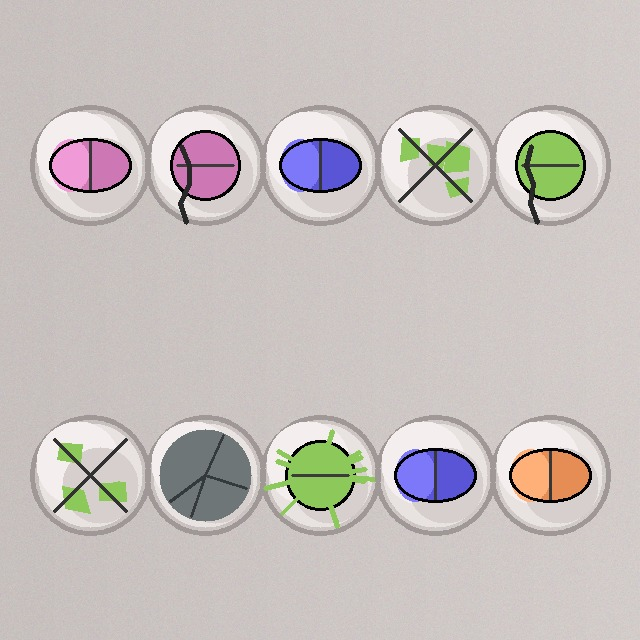broken: (373, 103, 497, 227), (28, 413, 152, 537)
crack: (143, 103, 267, 227), (488, 103, 612, 227)
empty: (143, 413, 267, 537)
flash: (258, 413, 382, 537)
